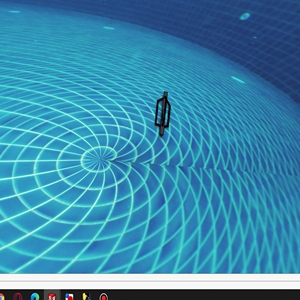submarine: (156, 99, 175, 138)
